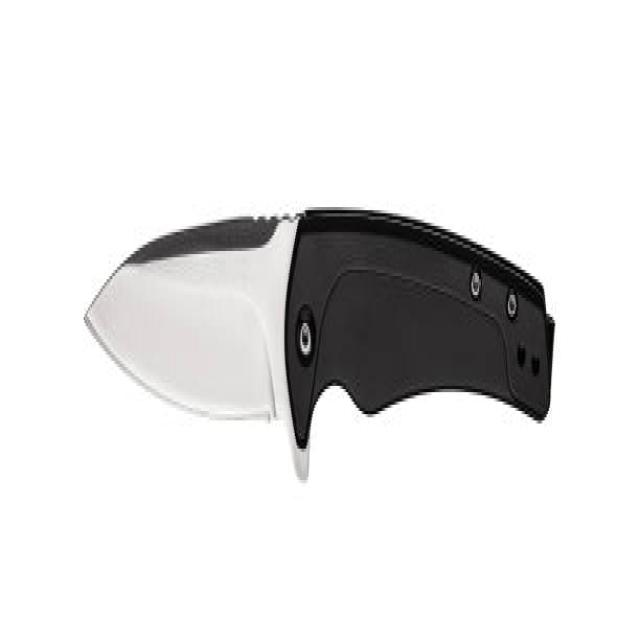knife: (83, 181, 560, 490)
